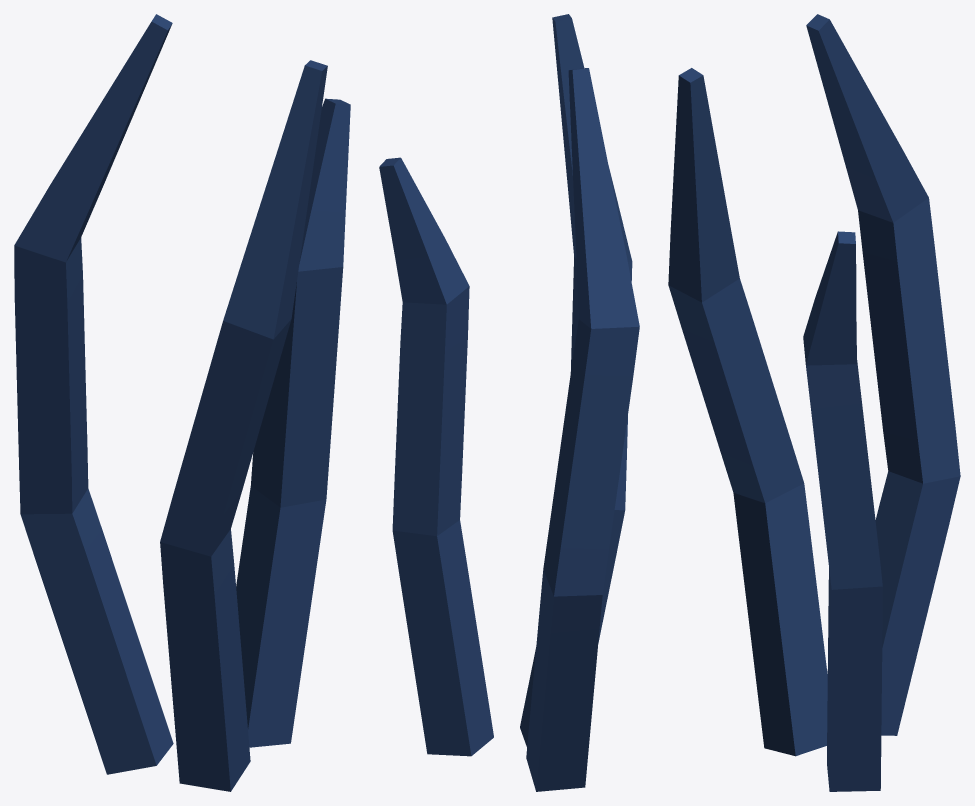
Rendered from plantherbe_b.fbx.
The picture shows the model from 3 angles, left to right: view 1: azimuth 30°, elevation 25°; view 2: azimuth 150°, elevation 25°; view 3: azimuth 270°, elevation 25°; orthographic projection. The views are drawn at different scales.
Visible parts, largest first — view 1: AlienPlantK; view 2: AlienPlantK; view 3: AlienPlantK.
Part boxes in pixels (x1=…): AlienPlantK: x1=14, y1=14, x2=350, y2=791; AlienPlantK: x1=379, y1=14, x2=639, y2=791; AlienPlantK: x1=668, y1=14, x2=960, y2=791.
Size of the model in its own units: 94.31 by 225 by 83.28.
